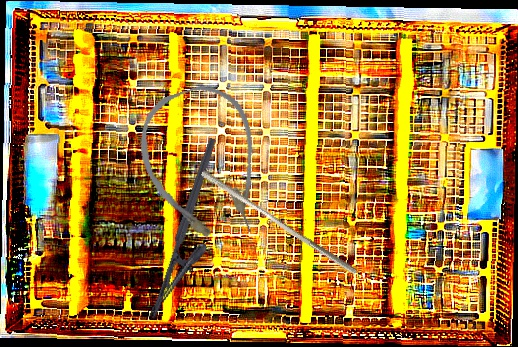Cannula: (126, 75, 280, 257)
Needle Holder: (147, 137, 242, 328)
Pusher: (197, 168, 362, 276)
